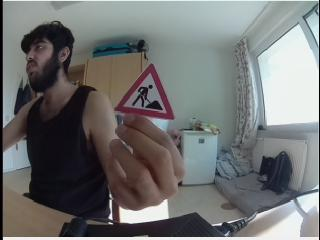construction: (115, 62, 171, 120)
